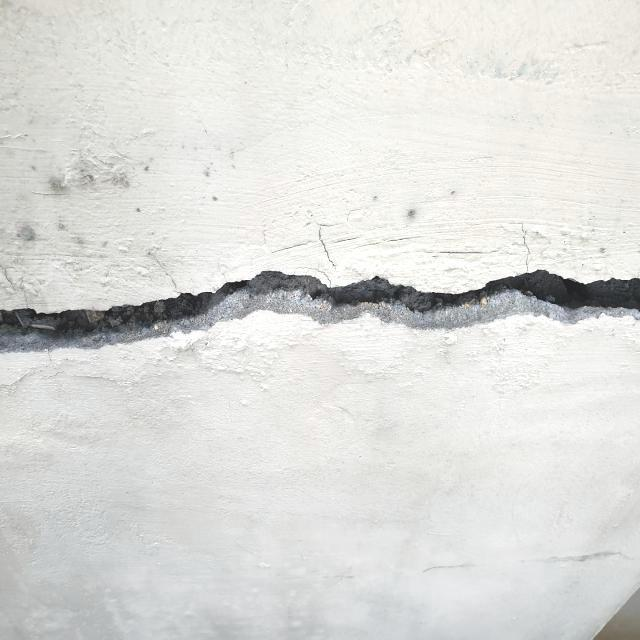SurfaceCrack: (0, 226, 639, 380)
